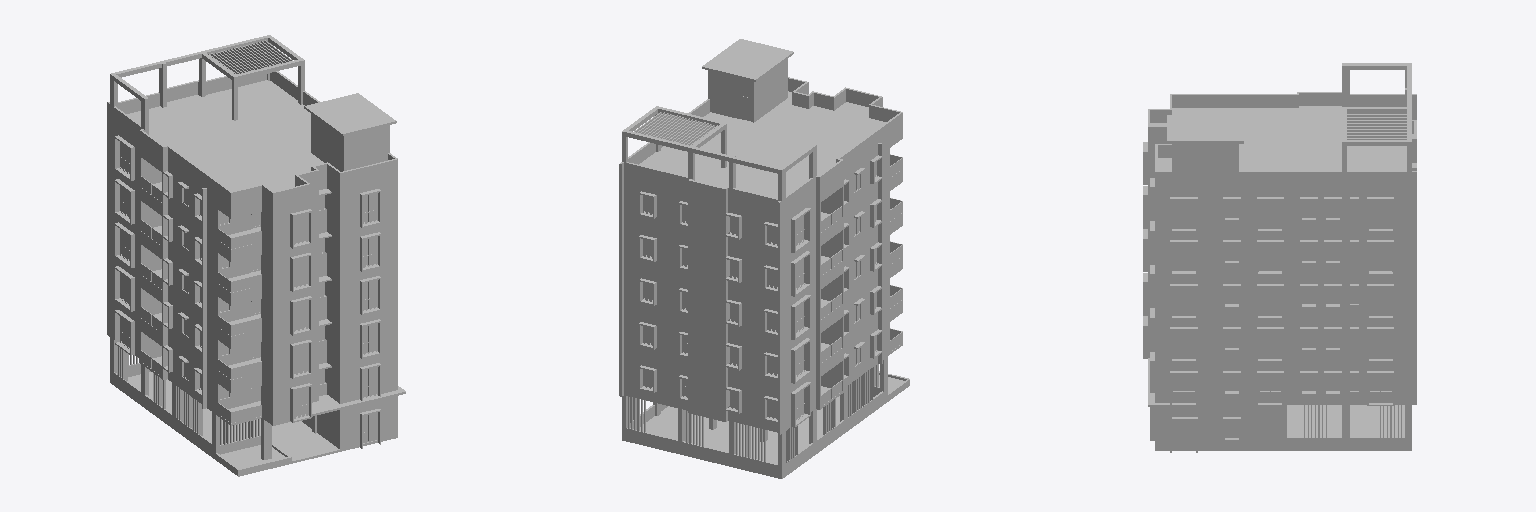
File: building2.obj
3 renders of one model, left to right at view 1: azimuth 30°, elevation 25°; view 2: azimuth 150°, elevation 25°; view 3: azimuth 270°, elevation 25°, orthographic.
Parts seen in each view (by area): view 1: WALL, ROOF_1, GROUND_FLOOR_1, BALCONY, WINDOW, LOUVER, DOOR; view 2: WALL, ROOF_1, GROUND_FLOOR_1, LOUVER, WINDOW, BALCONY; view 3: WALL, ROOF_1, WINDOW, GROUND_FLOOR_1, LOUVER, GROUND_FLOOR_2.
Part boxes in pixels (left/top/right/bottom): WALL: left=107, top=116, right=397, bottom=425; ROOF_1: left=107, top=71, right=397, bottom=205; GROUND_FLOOR_1: left=110, top=338, right=405, bottom=476; BALCONY: left=141, top=176, right=261, bottom=425; WINDOW: left=120, top=142, right=377, bottom=418; LOUVER: left=110, top=35, right=304, bottom=445; DOOR: left=251, top=212, right=260, bottom=402; WALL: left=619, top=135, right=889, bottom=435; ROOF_1: left=619, top=39, right=902, bottom=215; GROUND_FLOOR_1: left=622, top=357, right=909, bottom=478; LOUVER: left=622, top=106, right=878, bottom=462; WINDOW: left=643, top=161, right=877, bottom=420; BALCONY: left=821, top=126, right=902, bottom=408; WALL: left=1143, top=108, right=1416, bottom=406; ROOF_1: left=1148, top=92, right=1416, bottom=184; WINDOW: left=1172, top=200, right=1392, bottom=402; GROUND_FLOOR_1: left=1148, top=358, right=1411, bottom=452; LOUVER: left=1304, top=63, right=1411, bottom=437; GROUND_FLOOR_2: left=1172, top=420, right=1238, bottom=448.
Bounding box in the file's own units: 486 × 858 × 684.